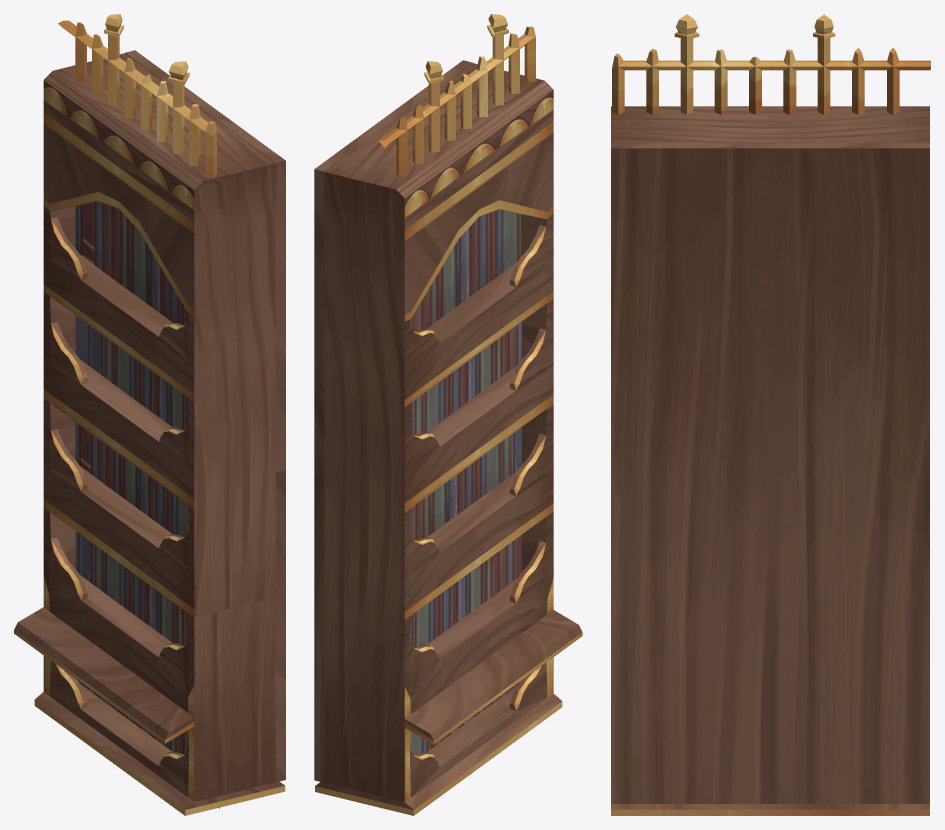
Rendered from A_Bookcase (1) 1.fbx.
3 views of the same model, side by side, from view 1: azimuth 30°, elevation 25°; view 2: azimuth 150°, elevation 25°; view 3: azimuth 270°, elevation 25° (orthographic). The views are drawn at different scales.
Visible parts, largest first — view 1: Merged.001; view 2: Merged.001; view 3: Merged.001.
Boxes of the visible parts, x1,y1,x2,y2 form: Merged.001: (14,14,285,815); Merged.001: (314,14,582,815); Merged.001: (611,14,930,815).
Size of the model in its own units: 60.23 by 343 by 130.
